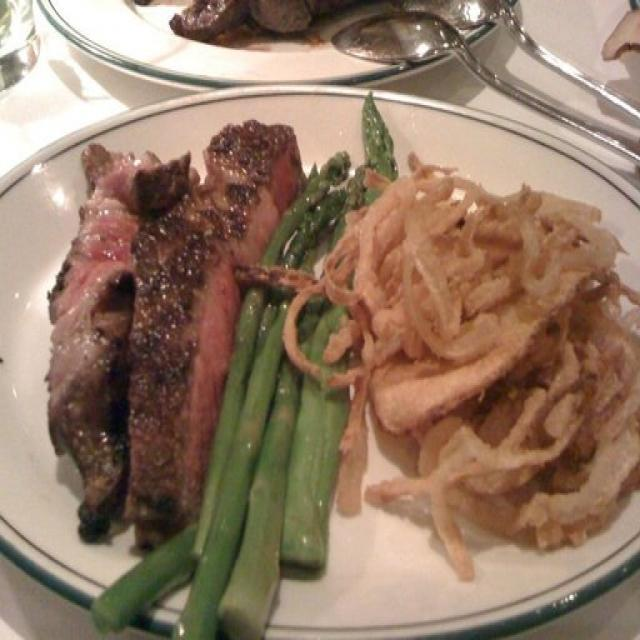Steak: (43, 93, 295, 531)
